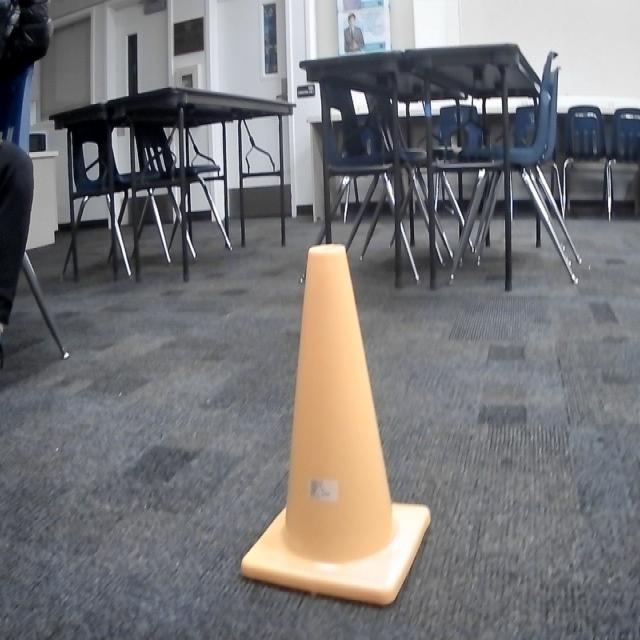cone: (237, 237, 436, 613)
